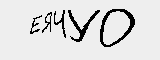Е: (28, 12, 42, 38)
О: (100, 6, 137, 48)
У: (67, 7, 100, 44)
Ч: (51, 8, 68, 39)
Я: (39, 10, 56, 34)
